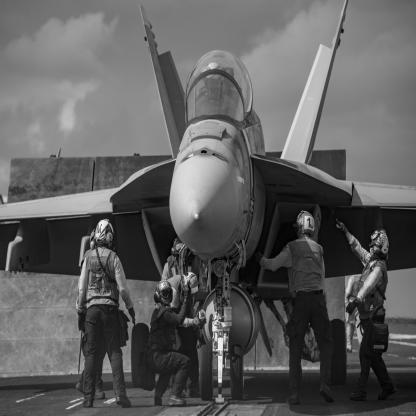F18: (1, 1, 416, 402)
